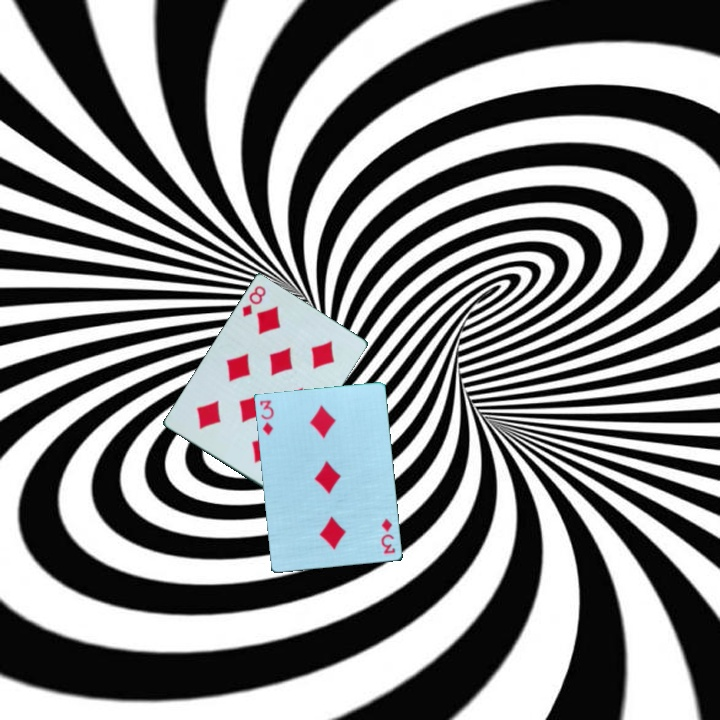3d: (256, 397, 277, 438), (378, 514, 398, 557)
8d: (239, 282, 269, 320)
